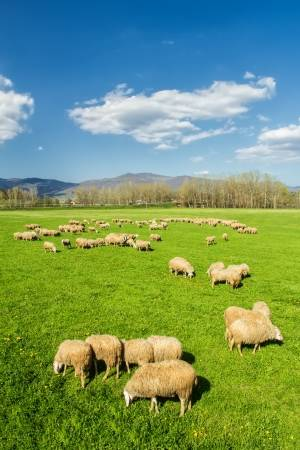sheep: (120, 359, 200, 414), (227, 318, 285, 354), (52, 335, 93, 385), (91, 328, 120, 381), (147, 331, 184, 361), (167, 255, 197, 280), (105, 232, 128, 248), (42, 240, 56, 255), (204, 234, 218, 248), (136, 238, 149, 251), (148, 231, 162, 242), (220, 232, 231, 242)
